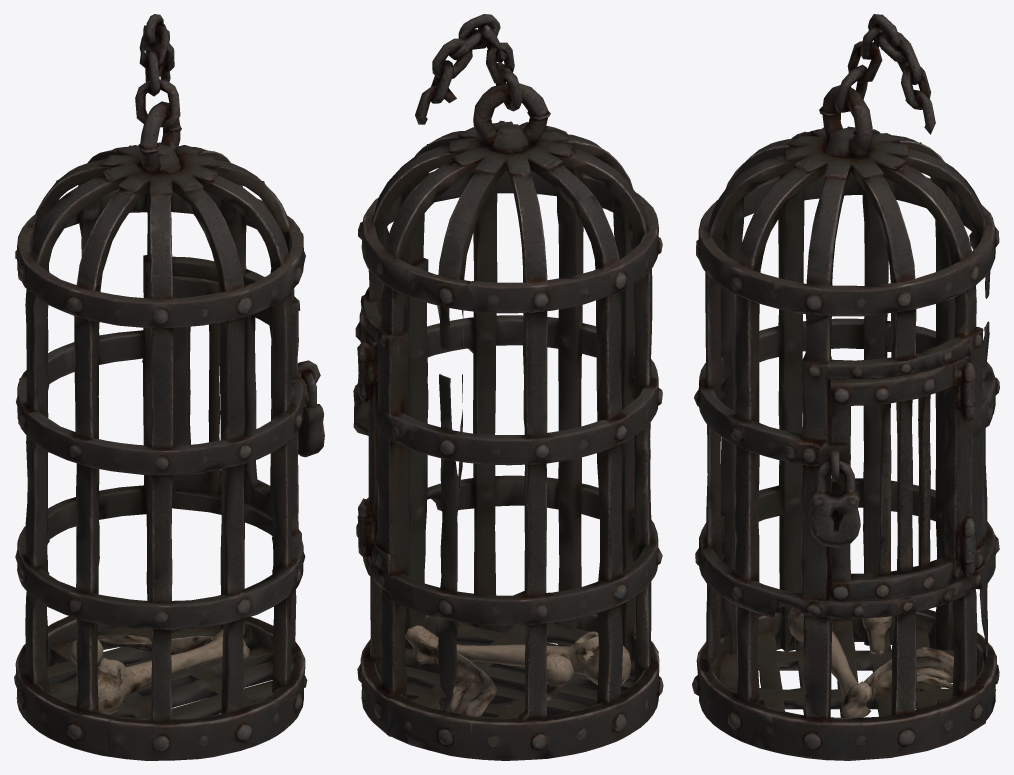
The model's file is iron_cage.glb.
The picture shows the model from 3 angles, left to right: view 1: azimuth 30°, elevation 25°; view 2: azimuth 150°, elevation 25°; view 3: azimuth 270°, elevation 25°; orthographic projection. The views are drawn at different scales.
Parts seen in each view (by area): view 1: tripo_node_df89d34c-8e84-4ff9-9e65-cfba83a3efa0; view 2: tripo_node_df89d34c-8e84-4ff9-9e65-cfba83a3efa0; view 3: tripo_node_df89d34c-8e84-4ff9-9e65-cfba83a3efa0.
Boxes of the visible parts, x1,y1,x2,y2 form: tripo_node_df89d34c-8e84-4ff9-9e65-cfba83a3efa0: (14,14,324,760); tripo_node_df89d34c-8e84-4ff9-9e65-cfba83a3efa0: (353,14,663,760); tripo_node_df89d34c-8e84-4ff9-9e65-cfba83a3efa0: (692,14,999,760).
Bounding box in the file's own units: 0.4348 × 1 × 0.405.
Materials: 1 (1 with a texture image).
